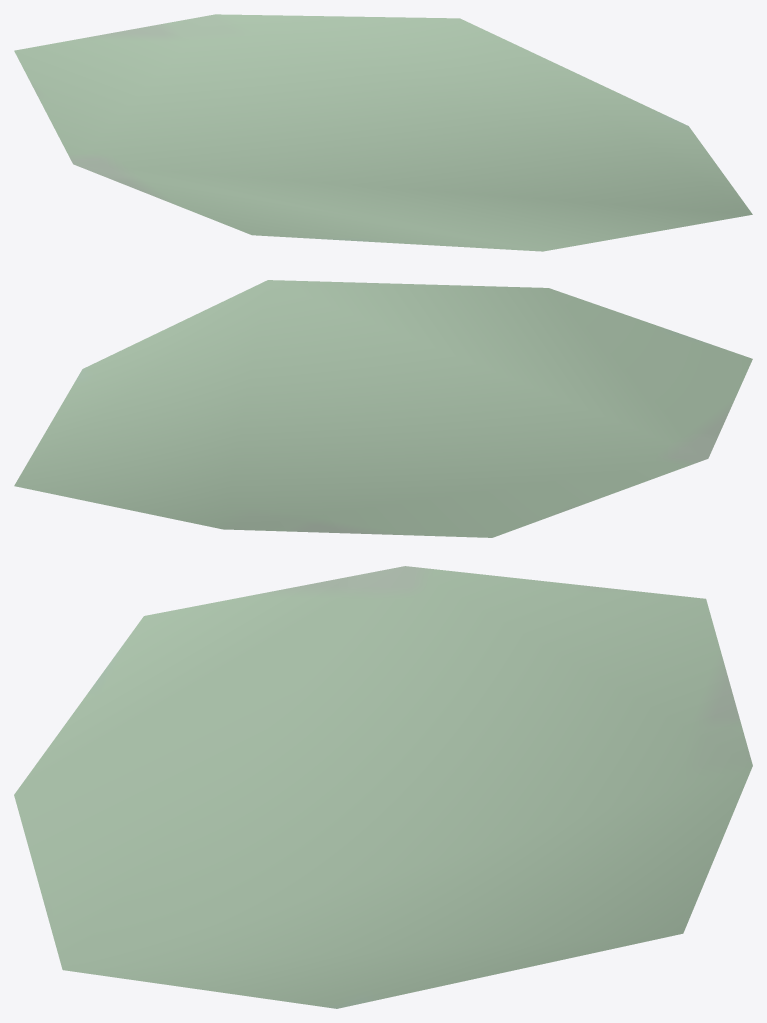
File: TROLLHOLE02_HOLECAP202.fbx
3 renders of one model, top to bottom at view 1: azimuth 30°, elevation 25°; view 2: azimuth 150°, elevation 25°; view 3: azimuth 270°, elevation 25°, orthographic. The views are drawn at different scales.
Parts seen in each view (by area): view 1: TROLLHOLE02_HOLECAP202; view 2: TROLLHOLE02_HOLECAP202; view 3: TROLLHOLE02_HOLECAP202.
Boxes of the visible parts, box(x1,y1,x2,y2) form: TROLLHOLE02_HOLECAP202: box(14, 14, 752, 251); TROLLHOLE02_HOLECAP202: box(14, 280, 752, 537); TROLLHOLE02_HOLECAP202: box(14, 566, 752, 1008).
Size of the model in its own units: 12592 by 1831 by 11487.
Materials: 1 (1 with a texture image).
